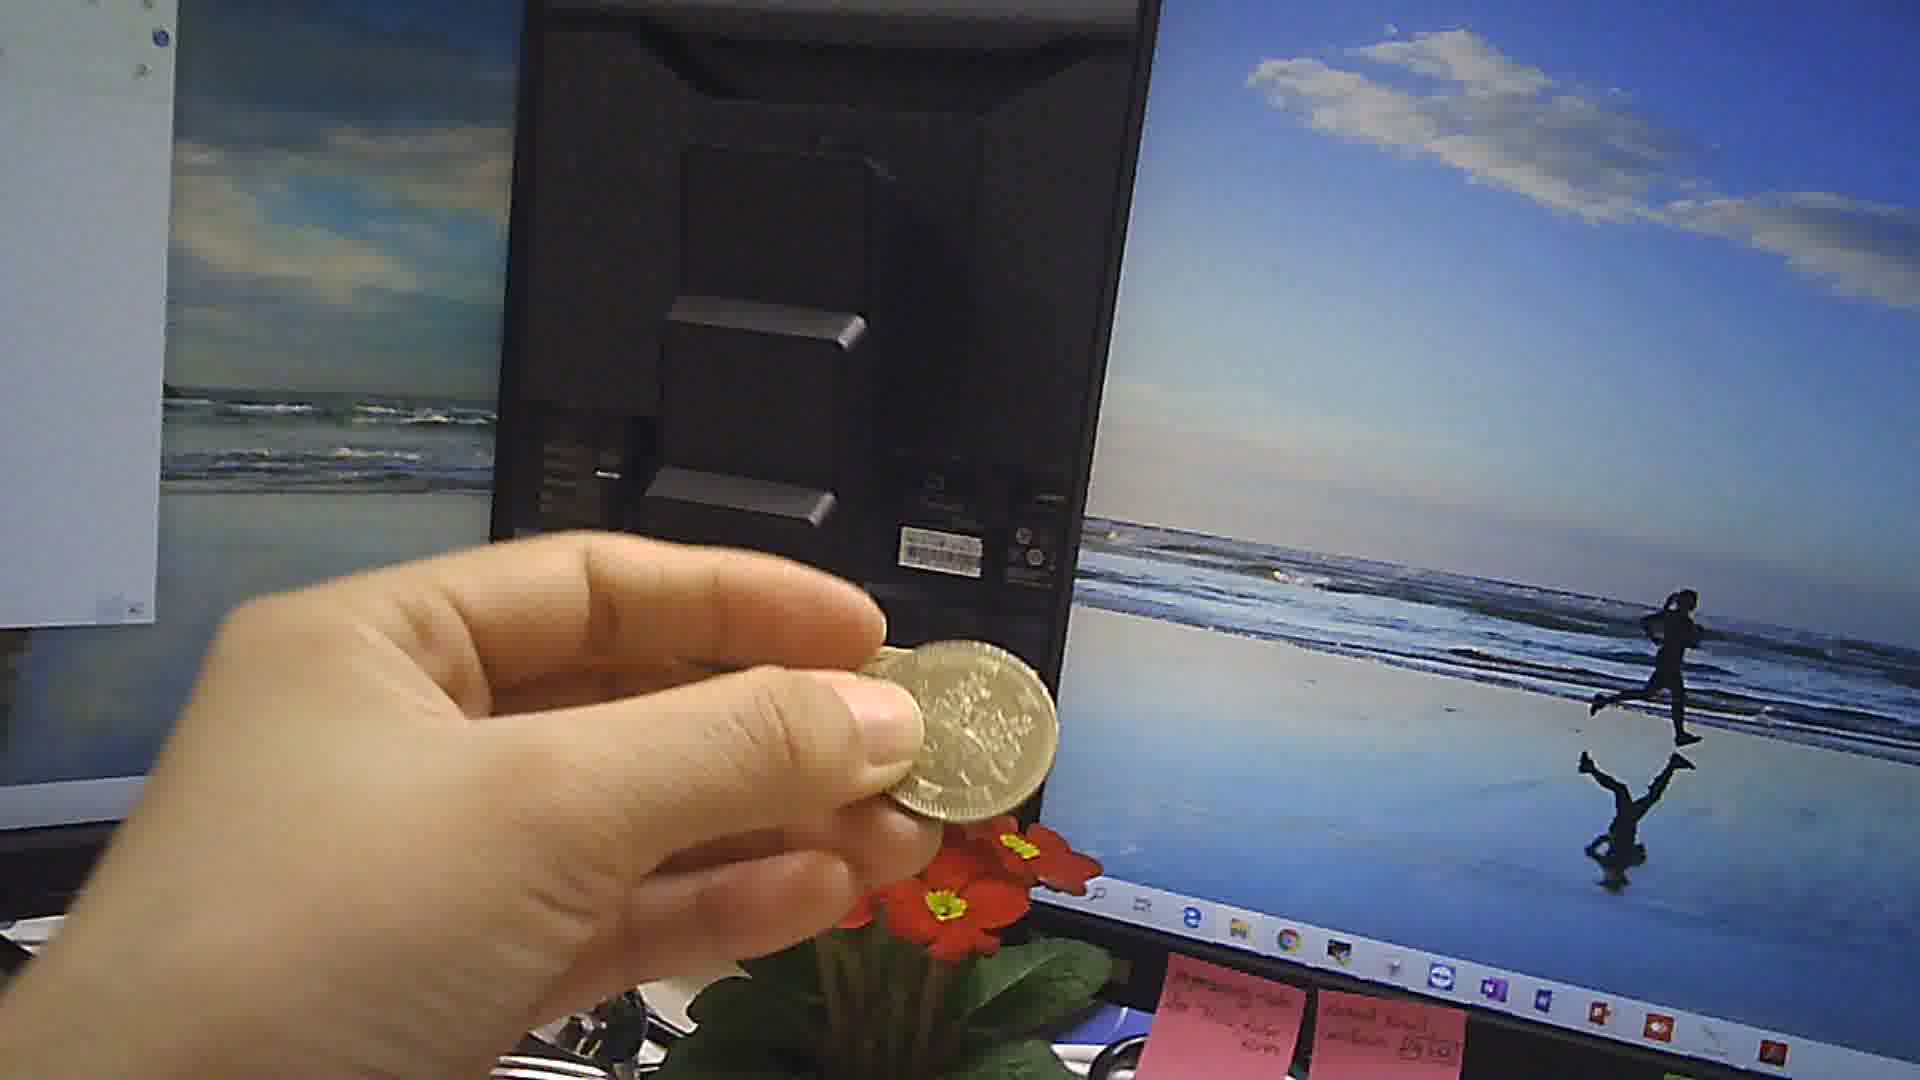500 Yen: (858, 625, 1071, 844)
